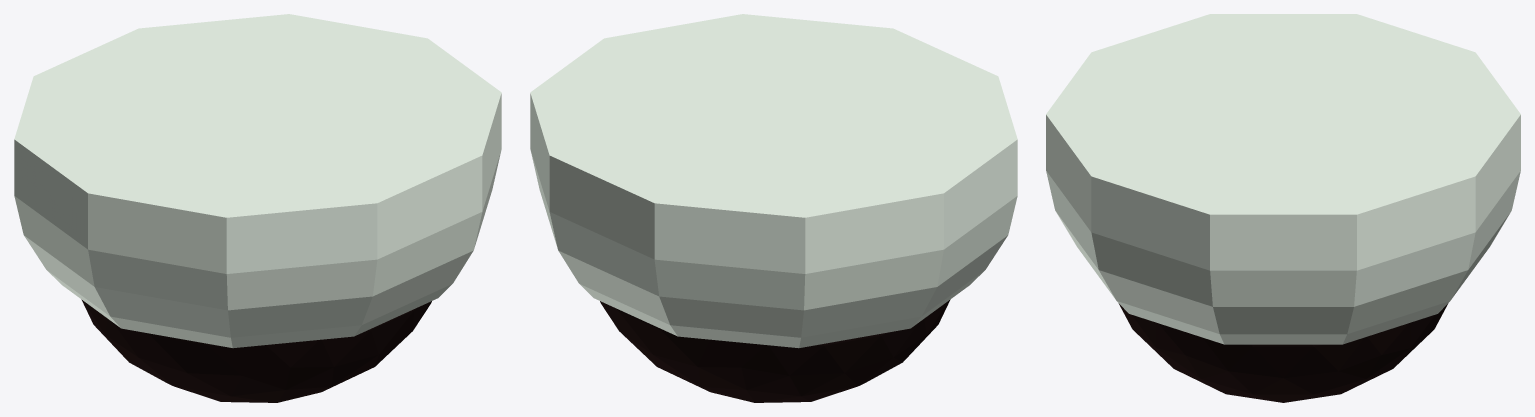
Rendered from Camera.fbx.
3 views of the same model, side by side, from view 1: azimuth 30°, elevation 25°; view 2: azimuth 150°, elevation 25°; view 3: azimuth 270°, elevation 25° (orthographic).
Parts seen in each view (by area): view 1: Camera; view 2: Camera; view 3: Camera.
Part boxes in pixels (x1=…): Camera: x1=14, y1=14, x2=501, y2=402; Camera: x1=530, y1=14, x2=1017, y2=402; Camera: x1=1046, y1=14, x2=1520, y2=402.
Size of the model in its own units: 13 by 8.1 by 13.
